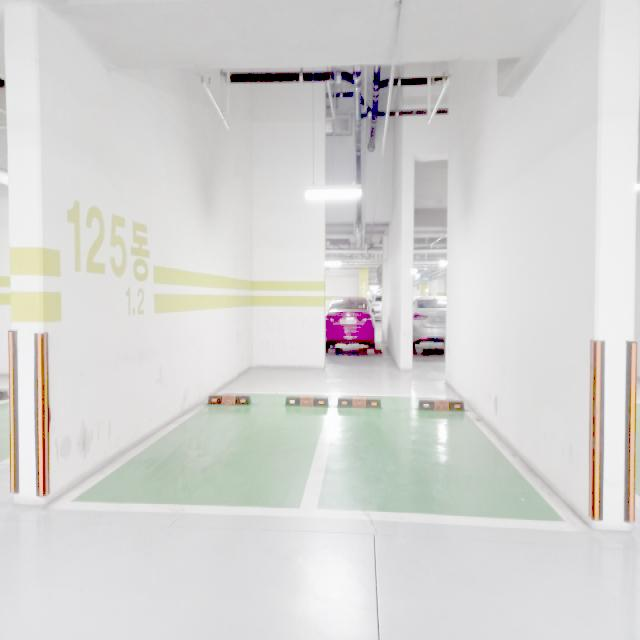empty: (307, 397, 548, 521), (67, 394, 320, 510)
